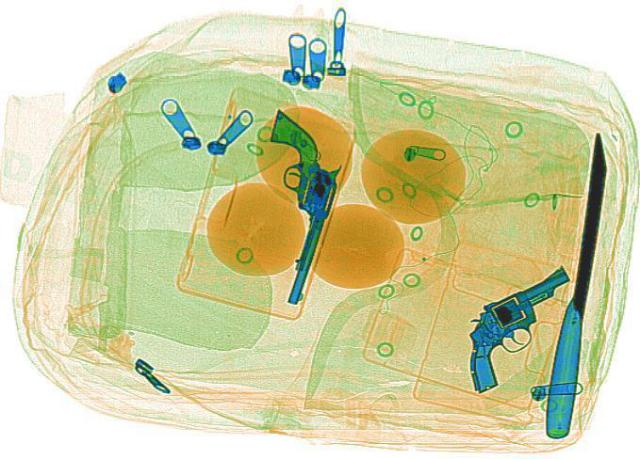Gun: (412, 264, 626, 394), (229, 107, 355, 304)
Knife: (541, 130, 611, 437)
